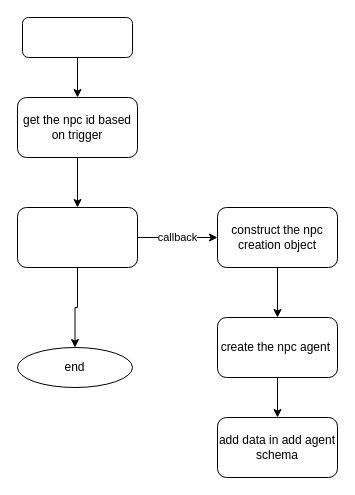
Some shapes in this 355 by 495 pixel diagram are drawn without their labels. The centre of each missing label's shape, as x and y in pixels:
call data server for get the npc info: (x=77, y=237)
start: (x=77, y=37)
